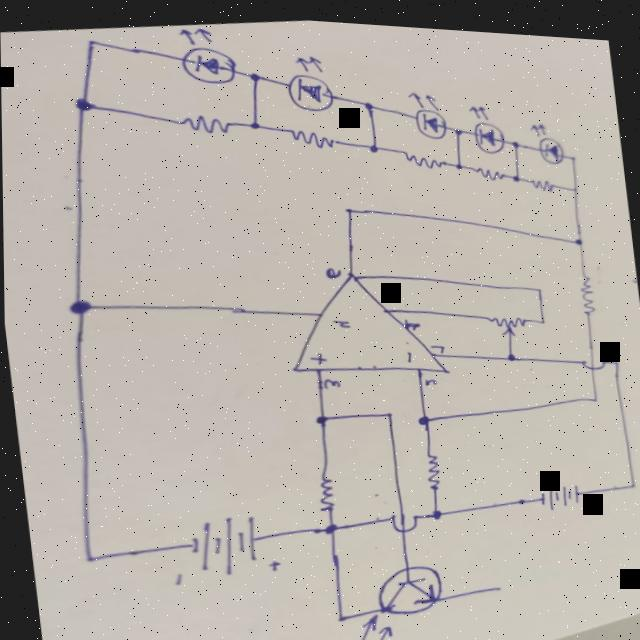crossover: (384, 506, 420, 530), (578, 348, 606, 364)
diode: (174, 21, 240, 86), (282, 48, 336, 111), (466, 96, 509, 150), (409, 83, 451, 137), (529, 112, 568, 159)
junction: (63, 295, 97, 317), (307, 402, 336, 425), (71, 93, 97, 116), (444, 149, 471, 169), (327, 605, 354, 622), (77, 550, 102, 567), (507, 157, 525, 179), (412, 406, 433, 424), (78, 33, 103, 48), (426, 501, 445, 518), (338, 198, 359, 213), (375, 402, 397, 416), (449, 115, 466, 132), (319, 517, 338, 532), (245, 114, 262, 130), (567, 227, 587, 240), (363, 136, 383, 149), (247, 66, 263, 81), (508, 130, 523, 145), (502, 344, 519, 357), (361, 93, 376, 107), (582, 386, 601, 397), (620, 471, 637, 483), (565, 177, 581, 187), (566, 144, 579, 155), (533, 310, 547, 319), (531, 279, 546, 286), (608, 350, 621, 358)
resistor: (176, 108, 233, 137), (287, 119, 342, 149), (483, 304, 534, 335), (400, 141, 447, 167), (576, 264, 600, 309), (420, 445, 444, 487), (313, 469, 338, 508), (473, 157, 508, 178), (527, 171, 556, 187)
source: (164, 508, 281, 589), (535, 474, 582, 505)
terminal: (482, 575, 508, 589)
text: (328, 312, 353, 326), (402, 310, 421, 327), (322, 261, 345, 275), (307, 347, 328, 362), (321, 373, 343, 386), (426, 336, 446, 349), (380, 277, 396, 292), (402, 342, 416, 359), (421, 371, 438, 381)
transistor: (347, 555, 450, 640)
